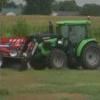Tractor: (28, 12, 100, 74)
